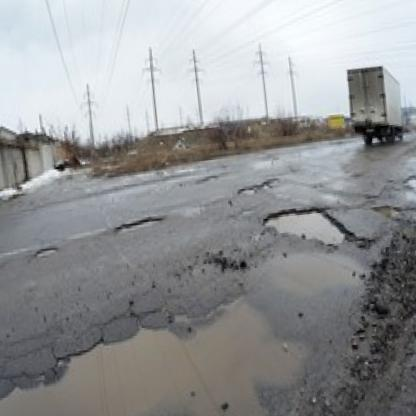pothole: (262, 203, 351, 255), (114, 215, 166, 234), (371, 202, 404, 224), (259, 173, 284, 191), (34, 247, 59, 259), (196, 173, 218, 184), (237, 185, 257, 196)
